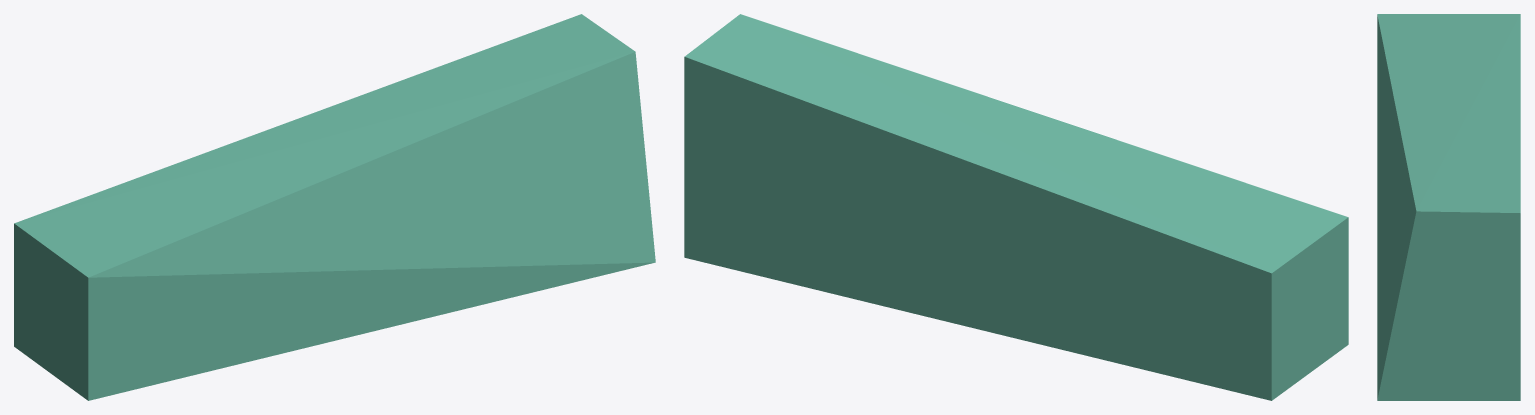
The model's file is simple_example_hole_part_31.obj.
3 views of the same model, side by side, from view 1: azimuth 30°, elevation 25°; view 2: azimuth 150°, elevation 25°; view 3: azimuth 270°, elevation 25° (orthographic). The views are drawn at different scales.
Bounding box in the file's own units: 30.58 × 10.09 × 6.92.
